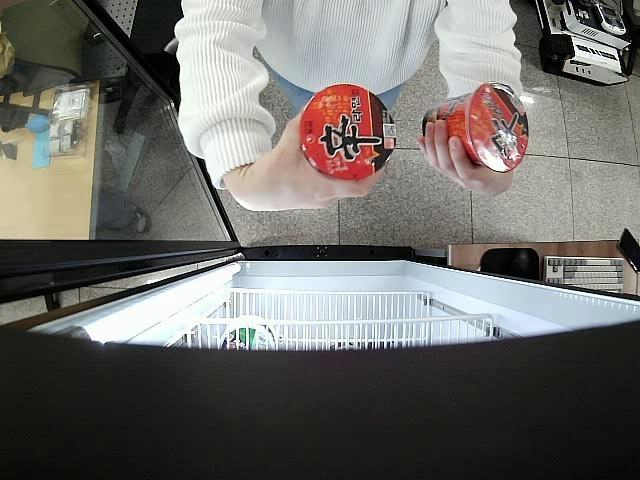02_shinRamen_S: (422, 82, 528, 174), (300, 84, 394, 183)
